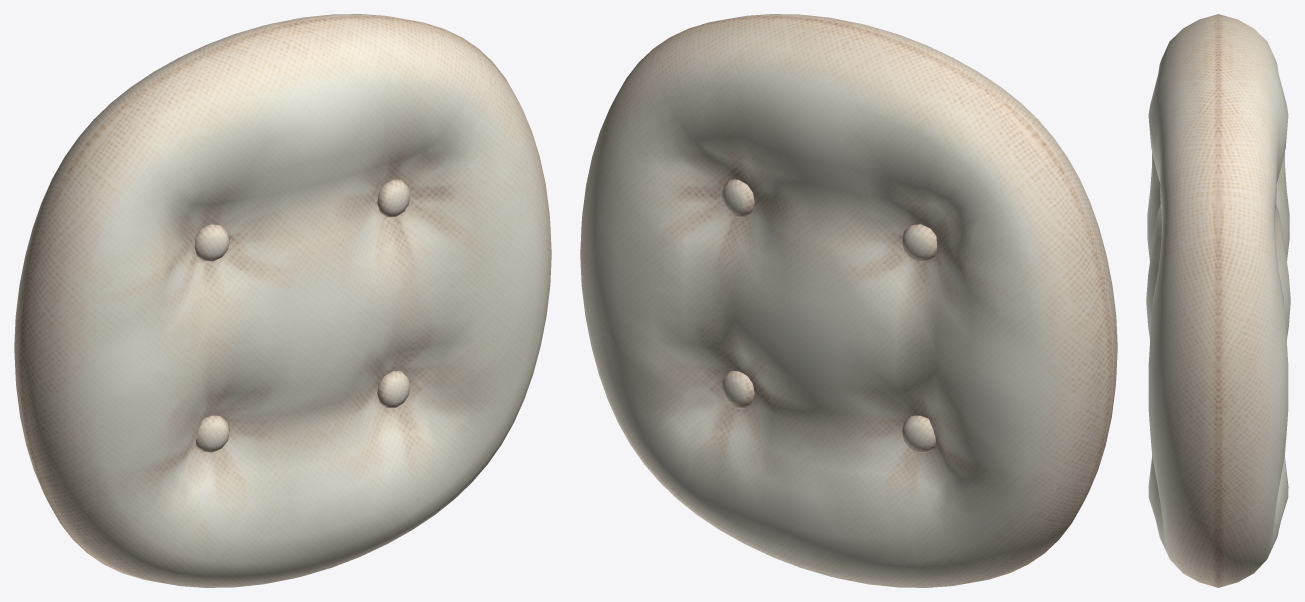
Rendered from ZuoDian4.FBX.
3 views of the same model, side by side, from view 1: azimuth 30°, elevation 25°; view 2: azimuth 150°, elevation 25°; view 3: azimuth 270°, elevation 25° (orthographic). The views are drawn at different scales.
Parts seen in each view (by area): view 1: ZuoDian; view 2: ZuoDian; view 3: ZuoDian.
Part boxes in pixels (x1=…): ZuoDian: x1=14, y1=14, x2=551, y2=587; ZuoDian: x1=580, y1=14, x2=1117, y2=587; ZuoDian: x1=1146, y1=14, x2=1290, y2=587.
Size of the model in its own units: 999 by 1000 by 260.
